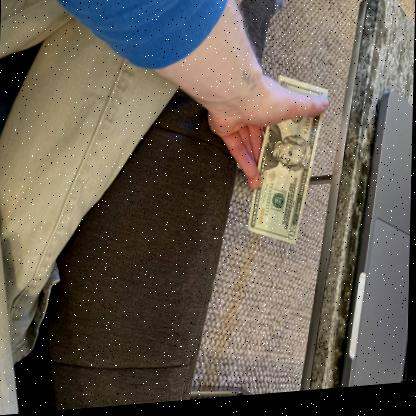twenty-front: (245, 74, 331, 245)
